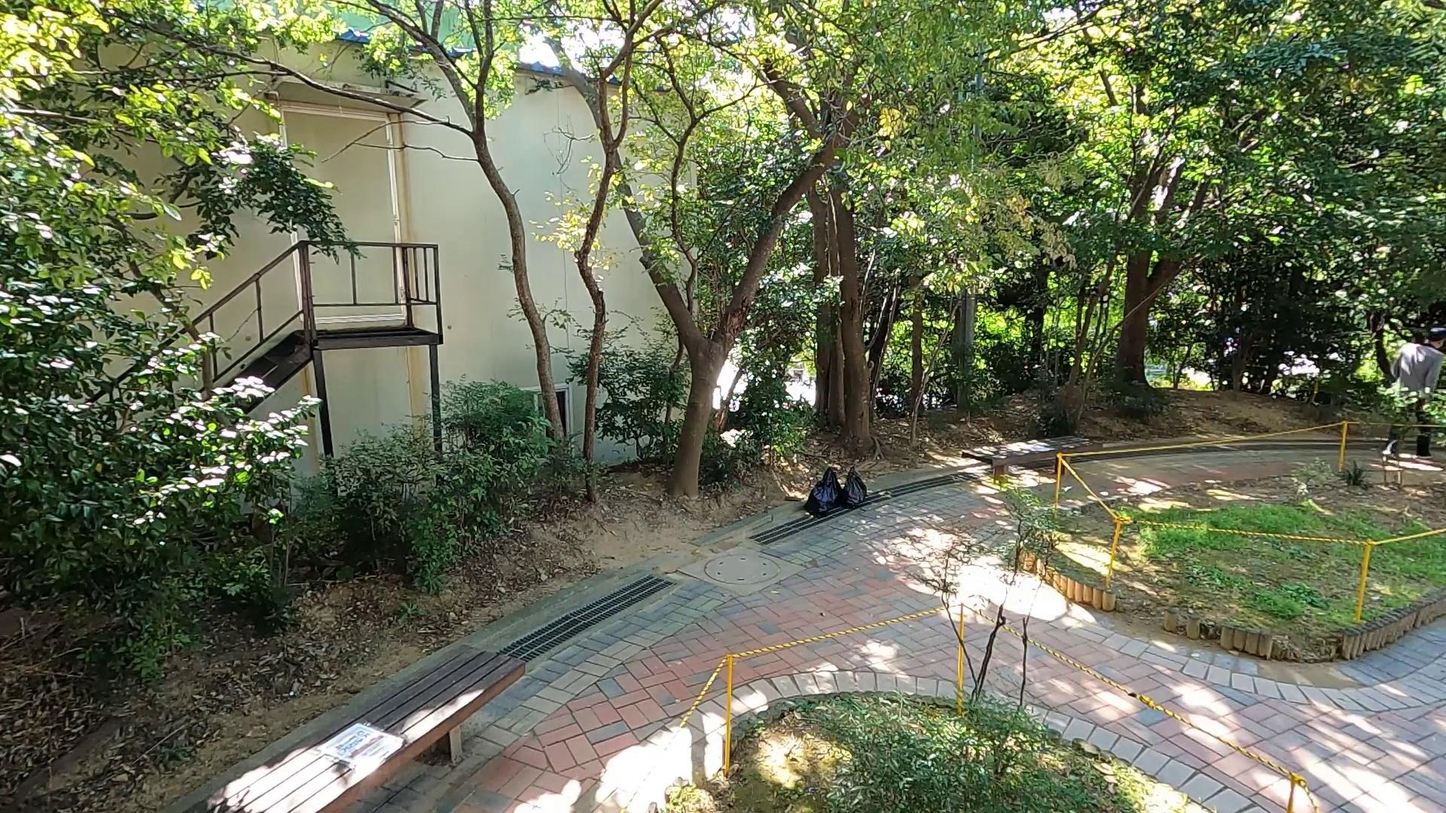person: (1377, 316, 1446, 466)
trash: (803, 475, 838, 517), (840, 467, 872, 509), (818, 460, 844, 484)
